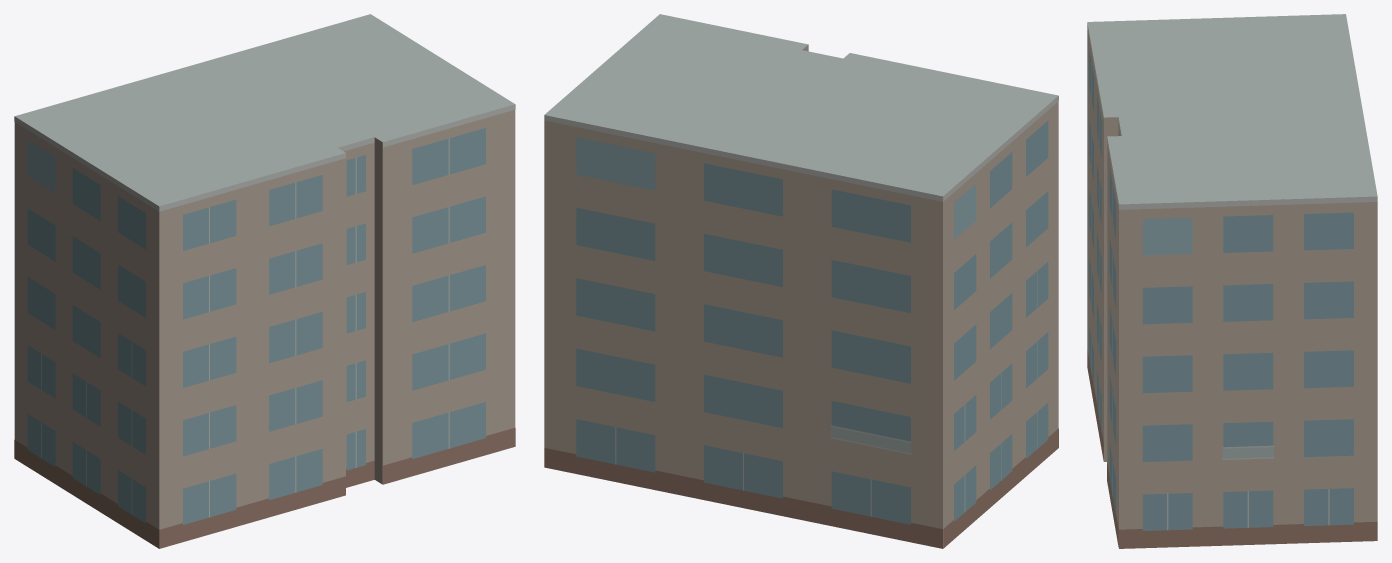
Rendered from survey-upis-32757096.glb.
3 views of the same model, side by side, from view 1: azimuth 30°, elevation 25°; view 2: azimuth 150°, elevation 25°; view 3: azimuth 270°, elevation 25° (orthographic). The views are drawn at different scales.
Visible parts, largest first — view 1: survey-upis-32757096.tmp; view 2: survey-upis-32757096.tmp; view 3: survey-upis-32757096.tmp.
Boxes of the visible parts, left/top/right/bottom form: survey-upis-32757096.tmp: left=14, top=14, right=515, bottom=548; survey-upis-32757096.tmp: left=544, top=14, right=1058, bottom=548; survey-upis-32757096.tmp: left=1087, top=14, right=1377, bottom=548.
Bounding box in the file's own units: 18.57 × 15.65 × 11.97.
